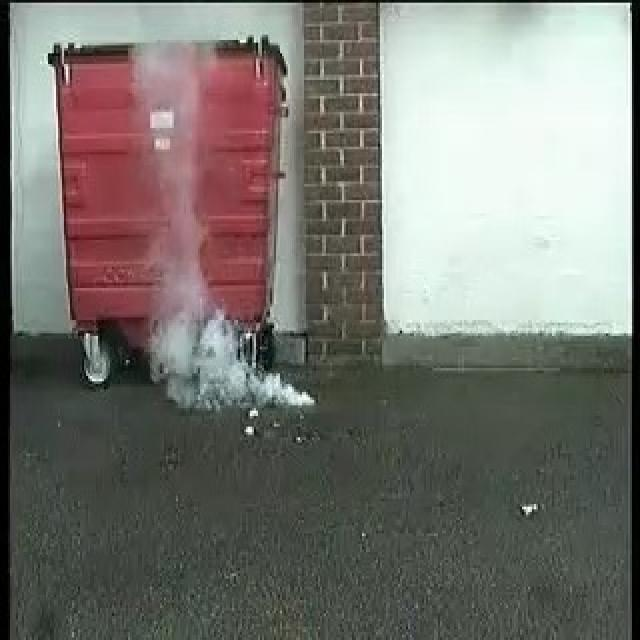smoke: (137, 306, 313, 413)
